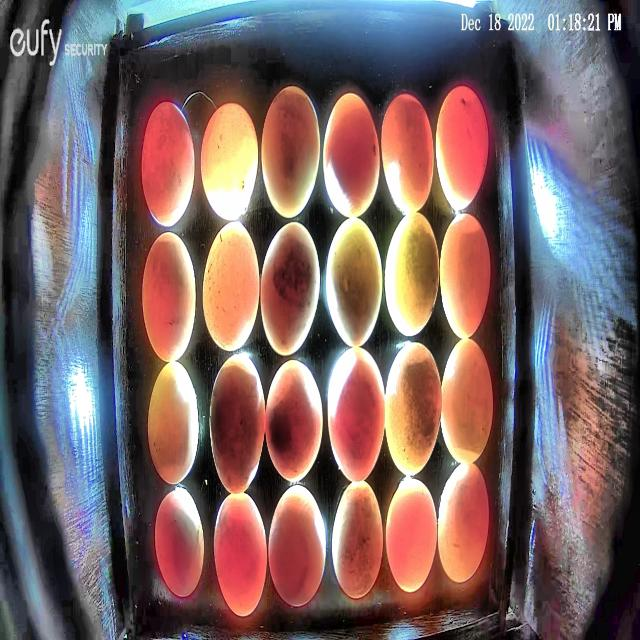DE: (260, 220, 320, 358), (208, 353, 266, 493), (327, 345, 385, 482), (325, 215, 383, 348), (386, 340, 442, 477), (262, 85, 319, 219), (202, 221, 260, 351), (322, 93, 381, 219), (383, 212, 440, 338), (200, 101, 259, 222), (140, 101, 196, 228), (268, 485, 326, 607), (141, 231, 195, 362), (266, 358, 323, 482), (212, 492, 267, 616), (380, 92, 434, 216), (441, 339, 494, 465), (436, 85, 489, 210), (147, 361, 199, 484), (439, 213, 490, 338), (331, 480, 383, 600), (438, 462, 488, 582), (386, 478, 436, 592), (154, 488, 205, 598)
